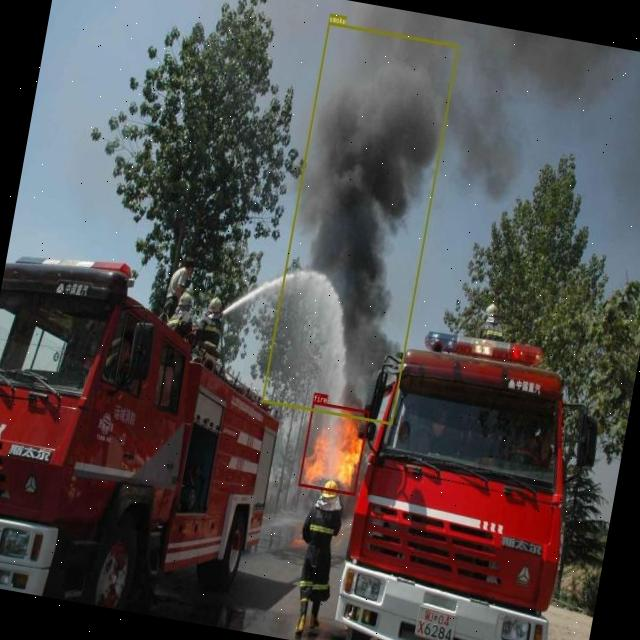fire: (297, 400, 369, 494)
smoke: (261, 21, 459, 424)
